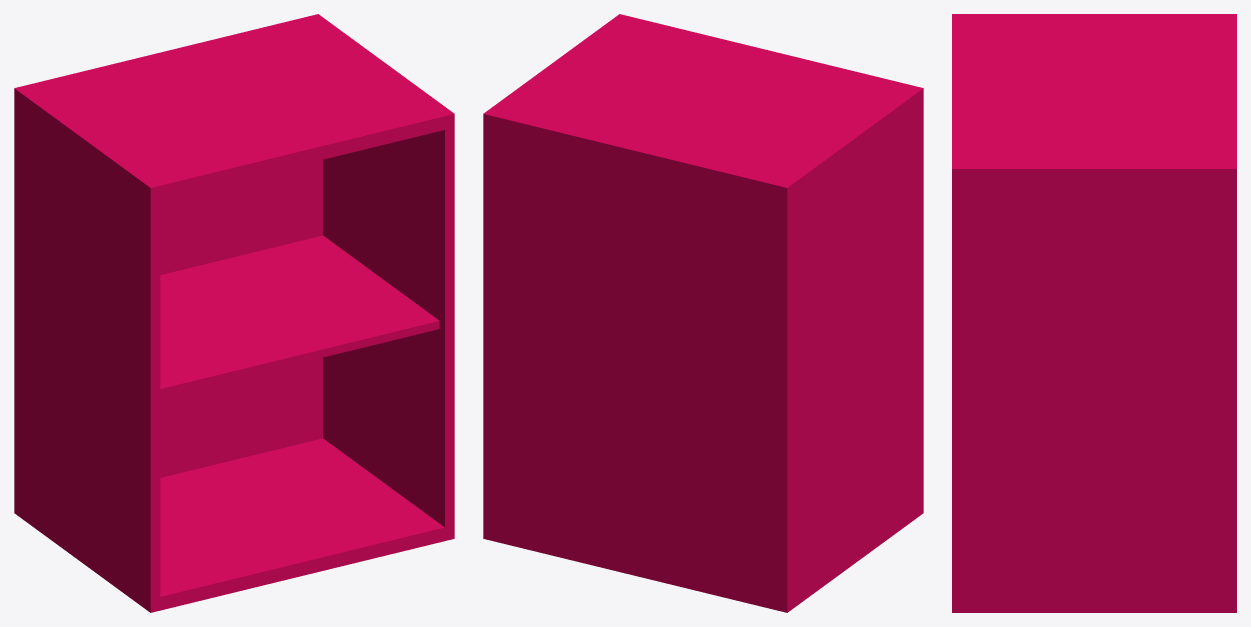
The model's file is Kitchen_Cupboard_13_Lod0.fbx.
3 renders of one model, left to right at view 1: azimuth 30°, elevation 25°; view 2: azimuth 150°, elevation 25°; view 3: azimuth 270°, elevation 25°, orthographic. The views are drawn at different scales.
Parts seen in each view (by area): view 1: Kitchen_Cupboard_13_Lod0; view 2: Kitchen_Cupboard_13_Lod0; view 3: Kitchen_Cupboard_13_Lod0.
Part boxes in pixels (x1,y1,x2,y2): Kitchen_Cupboard_13_Lod0: (14, 14, 454, 612); Kitchen_Cupboard_13_Lod0: (483, 14, 923, 612); Kitchen_Cupboard_13_Lod0: (952, 14, 1236, 612).
Bounding box in the file's own units: 68.77 × 91.84 × 53.43.
